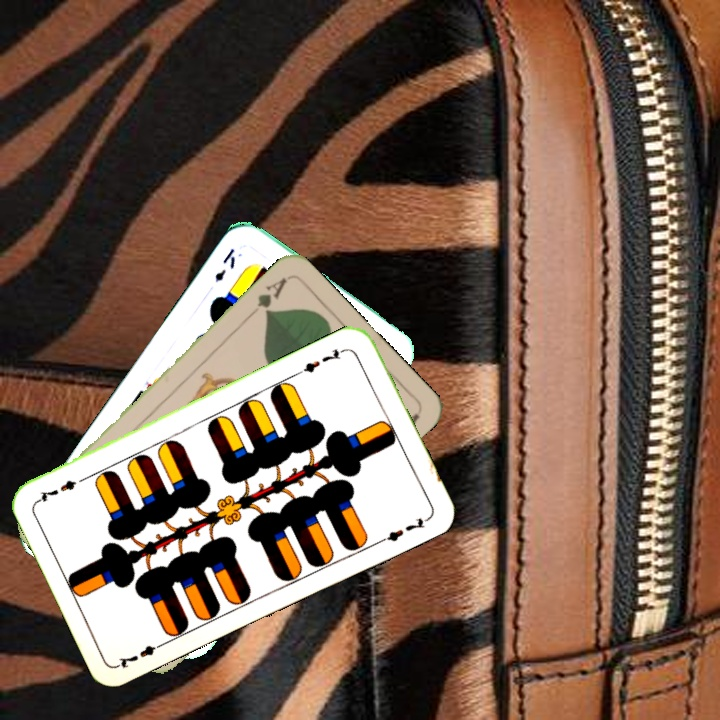E7: (114, 637, 169, 671), (295, 344, 350, 377)
EK: (210, 244, 238, 285)
GA: (245, 274, 290, 320)
